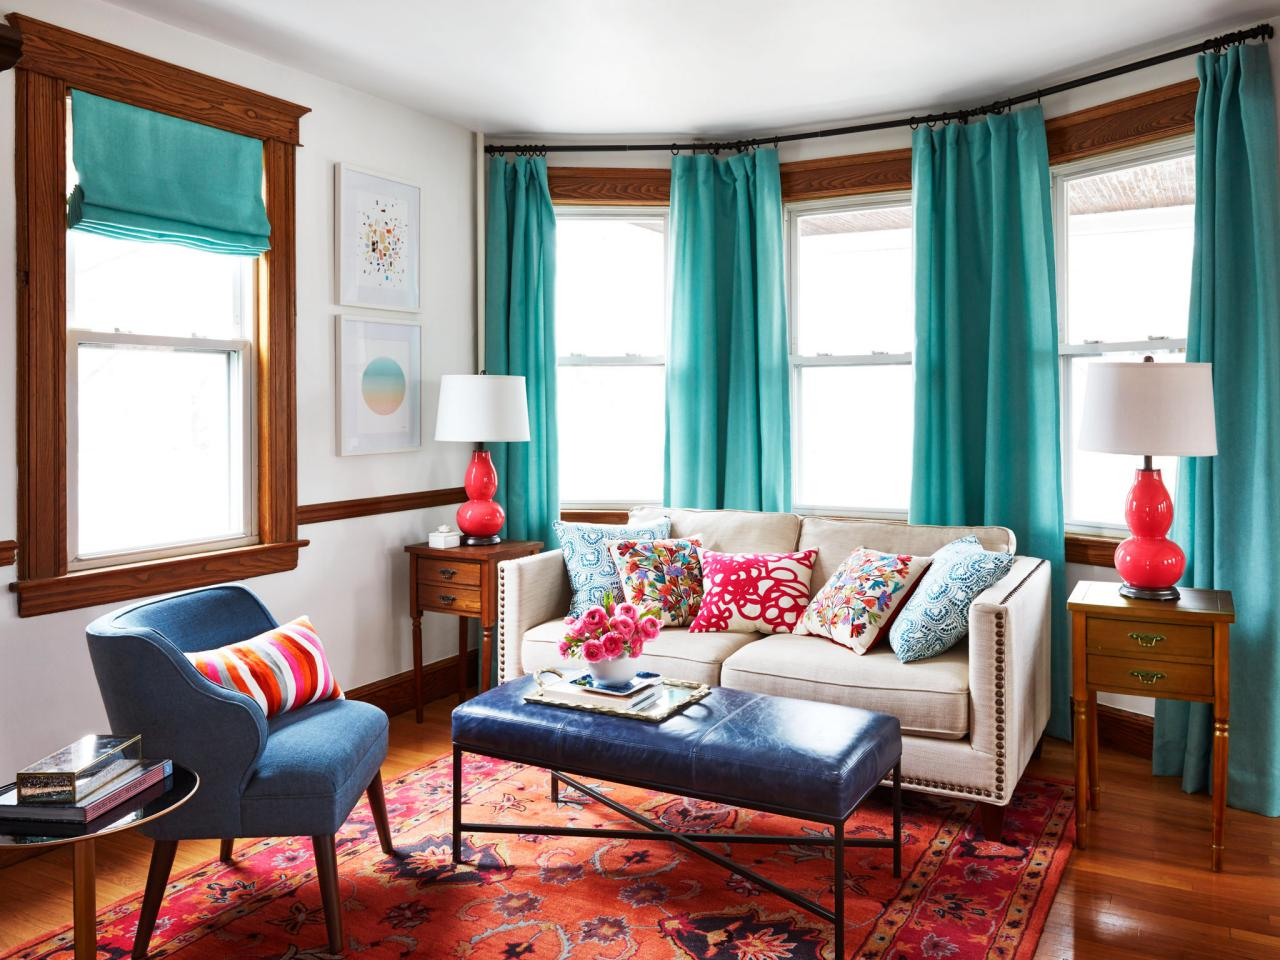biru: (98, 591, 390, 829), (452, 674, 900, 803)
coklat: (406, 541, 495, 617)
pink: (1123, 470, 1188, 586), (460, 450, 508, 536)
putih: (1074, 363, 1222, 457), (436, 371, 532, 442)
